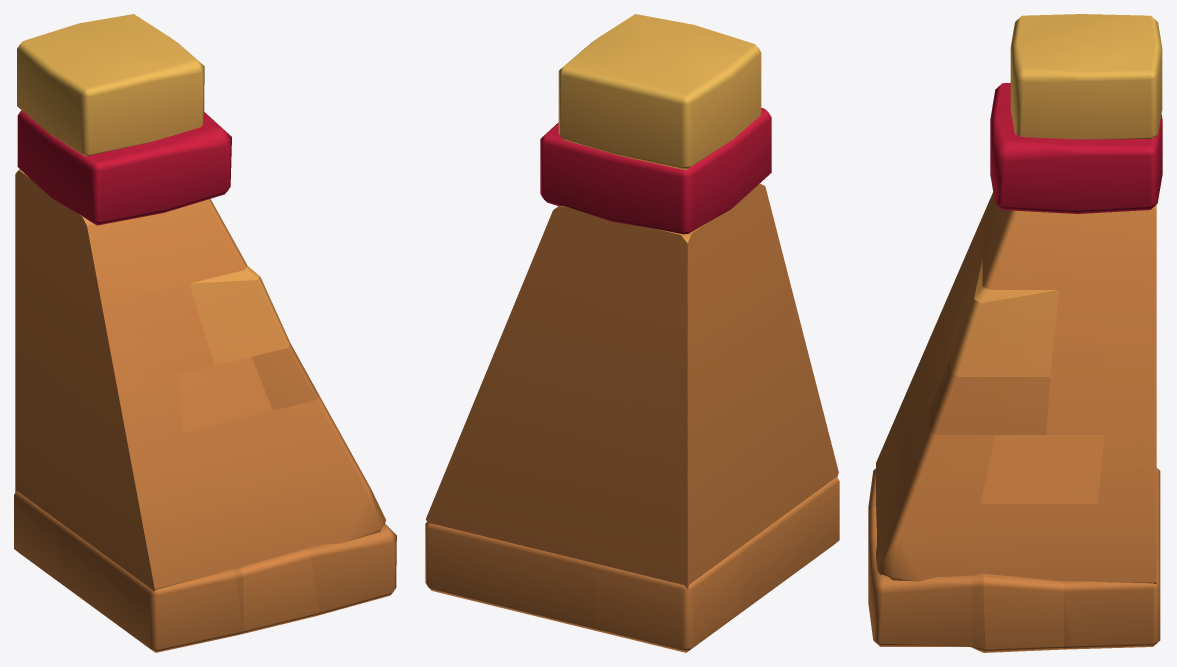
The model's file is wall_floor_slanted_corner_conv.fbx.
3 renders of one model, left to right at view 1: azimuth 30°, elevation 25°; view 2: azimuth 150°, elevation 25°; view 3: azimuth 270°, elevation 25°, orthographic. The views are drawn at different scales.
Parts seen in each view (by area): view 1: wall_floor_slanted_corner_conv; view 2: wall_floor_slanted_corner_conv; view 3: wall_floor_slanted_corner_conv.
Part boxes in pixels (x1,y1,x2,y2): wall_floor_slanted_corner_conv: [14, 14, 396, 652]; wall_floor_slanted_corner_conv: [425, 14, 839, 652]; wall_floor_slanted_corner_conv: [868, 14, 1162, 652].
Bounding box in the file's own units: 211 × 406 × 208.
